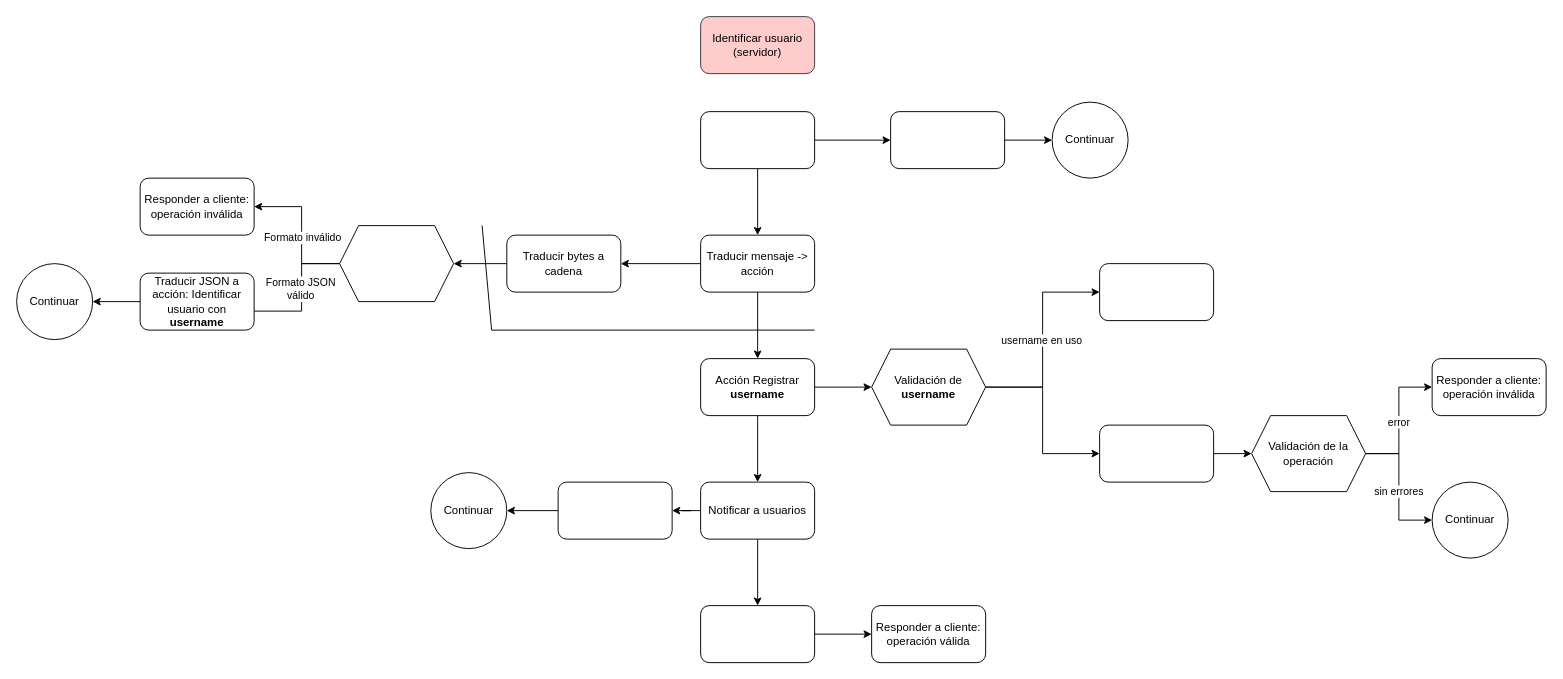
Some shapes in this 1563 by 679 pixel diagram are drawn without their labels. Each missing label, with the centre of its shape:
"Enviar mensaje a {usuarios} - {cliente}: Usuario nuevo + username" goes at point 614,510.
"Extraer bytes del mensaje" goes at point 947,140.
"Recibir mensaje por red" goes at point 757,140.
"Registrar usuario en la base de datos" goes at point 1156,453.
"Responder a cliente" goes at point 757,634.
"Responder a cliente: cliente existente" goes at point 1156,292.
"Validación de cadena" goes at point 396,263.
